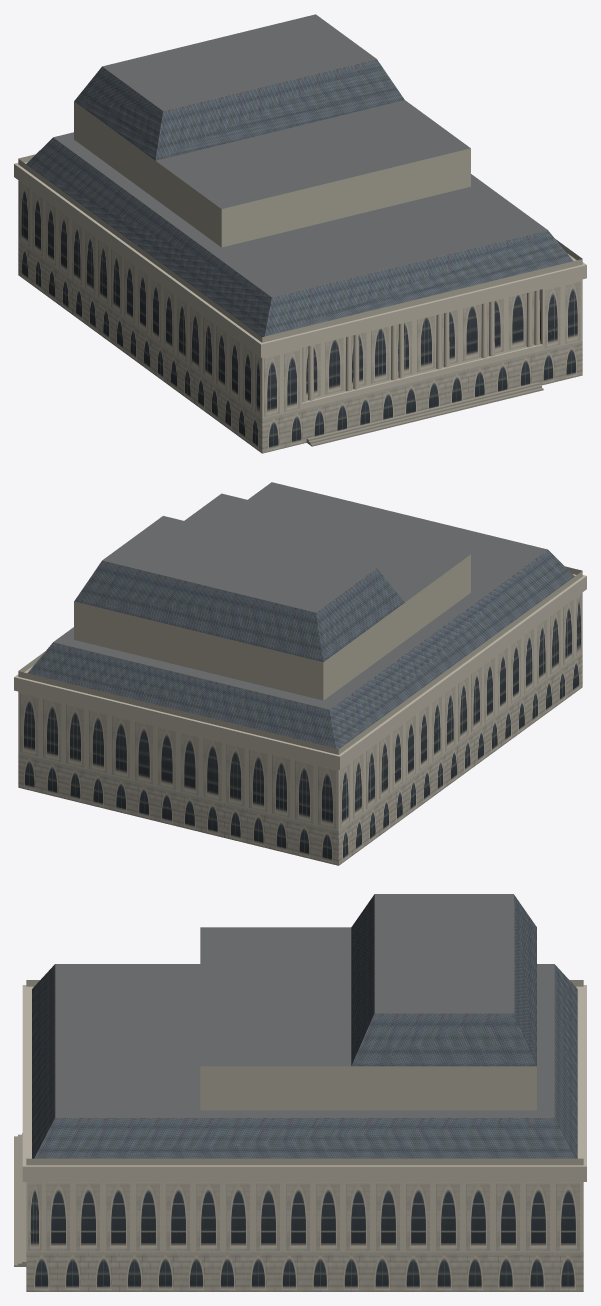
File: war_memorial.glb
The picture shows the model from 3 angles, top to bottom: view 1: azimuth 30°, elevation 25°; view 2: azimuth 150°, elevation 25°; view 3: azimuth 270°, elevation 25°; orthographic projection. The views are drawn at different scales.
Visible parts, largest first — view 1: war_memorial; view 2: war_memorial; view 3: war_memorial.
Boxes of the visible parts, bbox=[...] form: war_memorial: bbox=[14, 14, 586, 453]; war_memorial: bbox=[14, 482, 586, 865]; war_memorial: bbox=[14, 894, 586, 1291].
Size of the model in its own units: 72 by 46 by 96.
2 materials, 2 textured.
